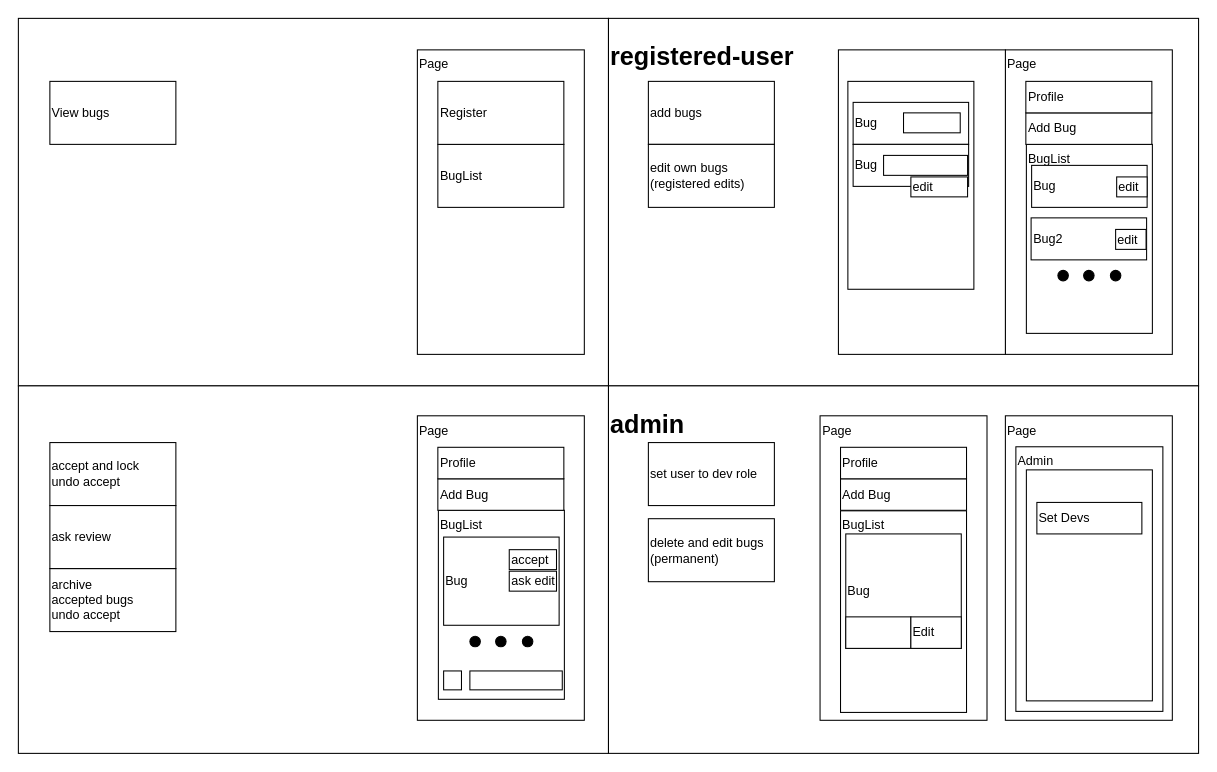
This 1217x772 diagram has some shape labels left out. The shapes that lost their labels are listed below. From the top down, each one's box as (x1, y1, x2, y2) in pixels, then its label:
(902, 112, 960, 133): Accepted
(847, 80, 974, 289): own bugs
(883, 154, 968, 175): asked review
(17, 17, 608, 386): visitor
(837, 49, 1005, 354): Page Profile
(17, 385, 608, 753): mod
(1025, 469, 1152, 701): Plugin
(845, 616, 911, 648): Remove
(469, 670, 562, 690): show archived
